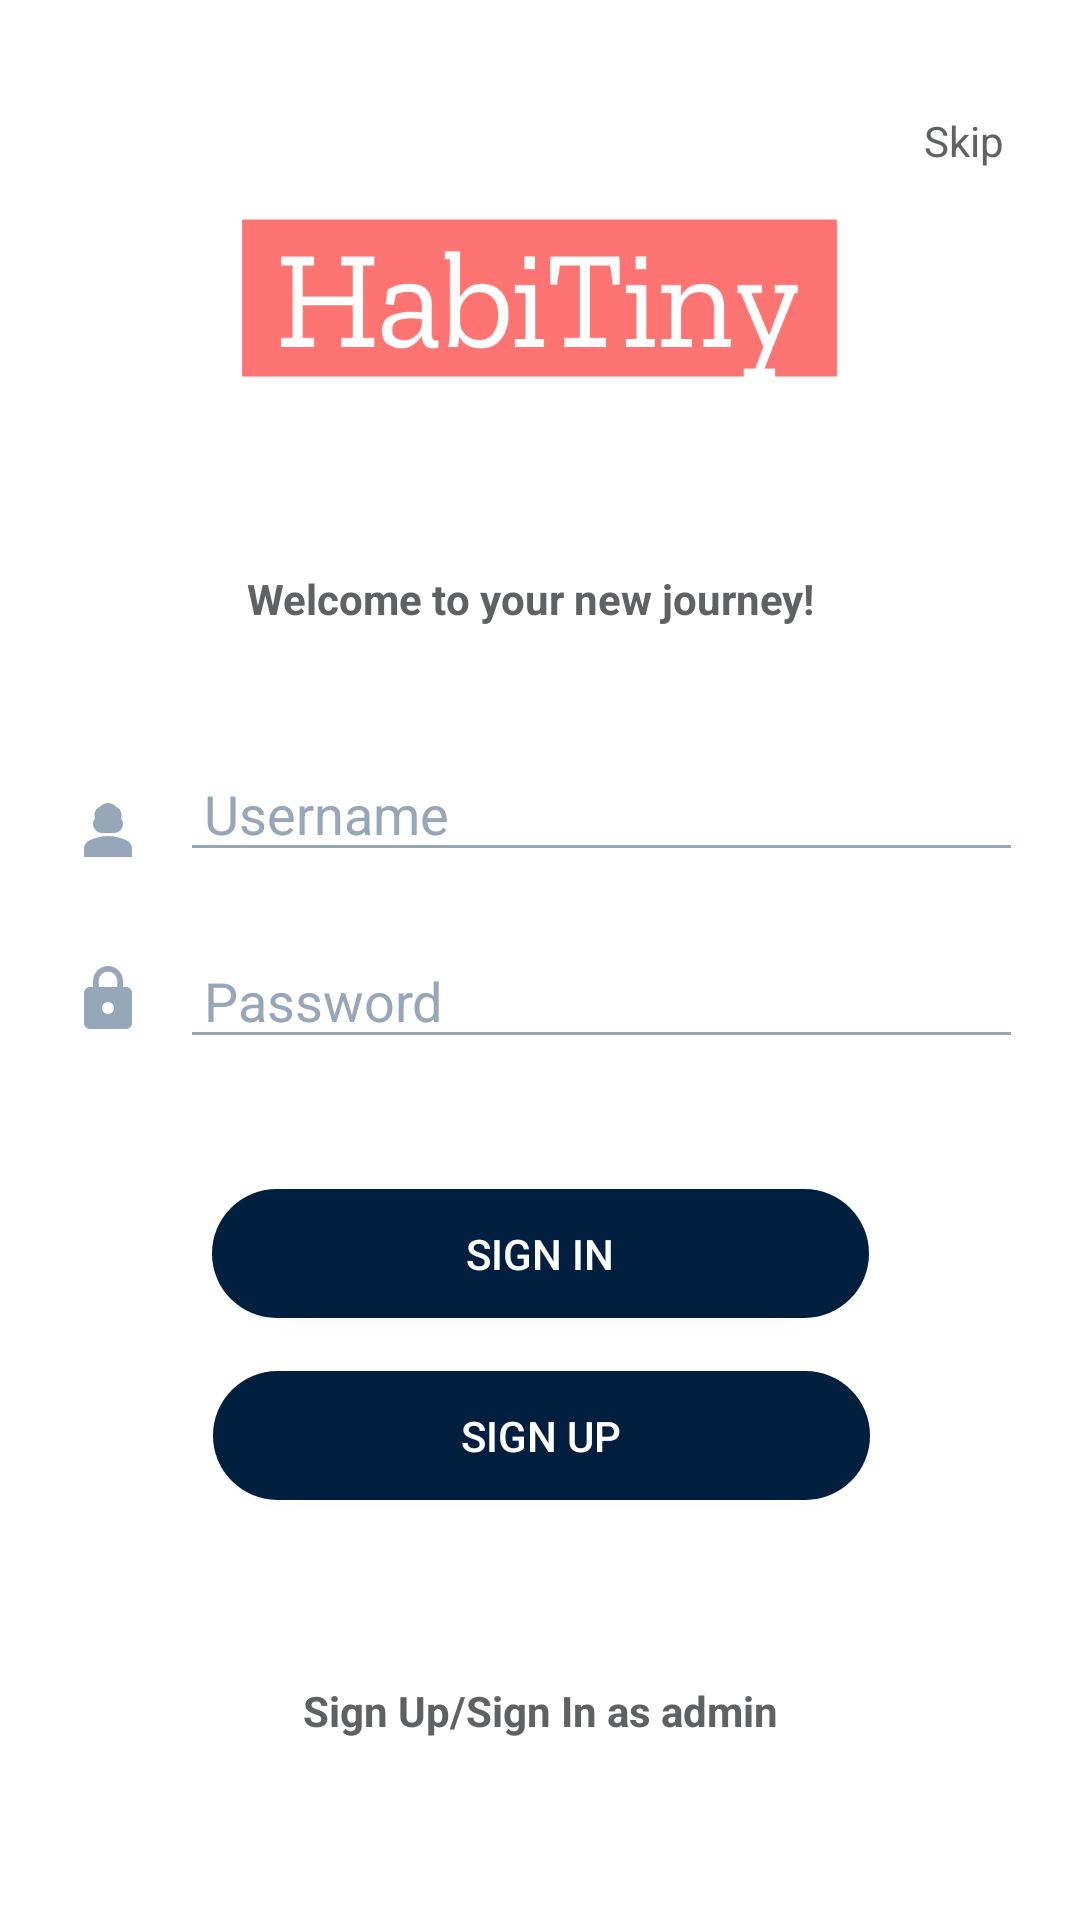

Screen size 1080 × 1920. Icon name, then its box in pixels as (x1, y1, x2, y2):
lock: (84, 966, 132, 1029)
person: (84, 803, 132, 857)
